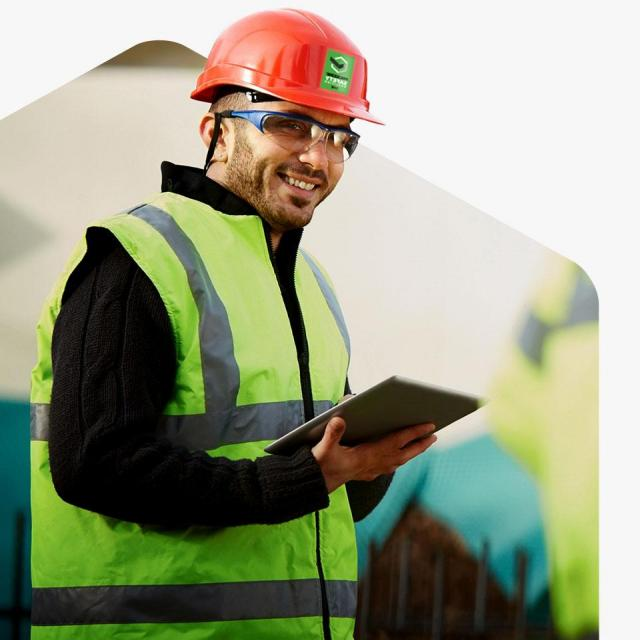Reflective-Jacket: (28, 182, 370, 640)
Safety-Helmet: (189, 4, 386, 134)
